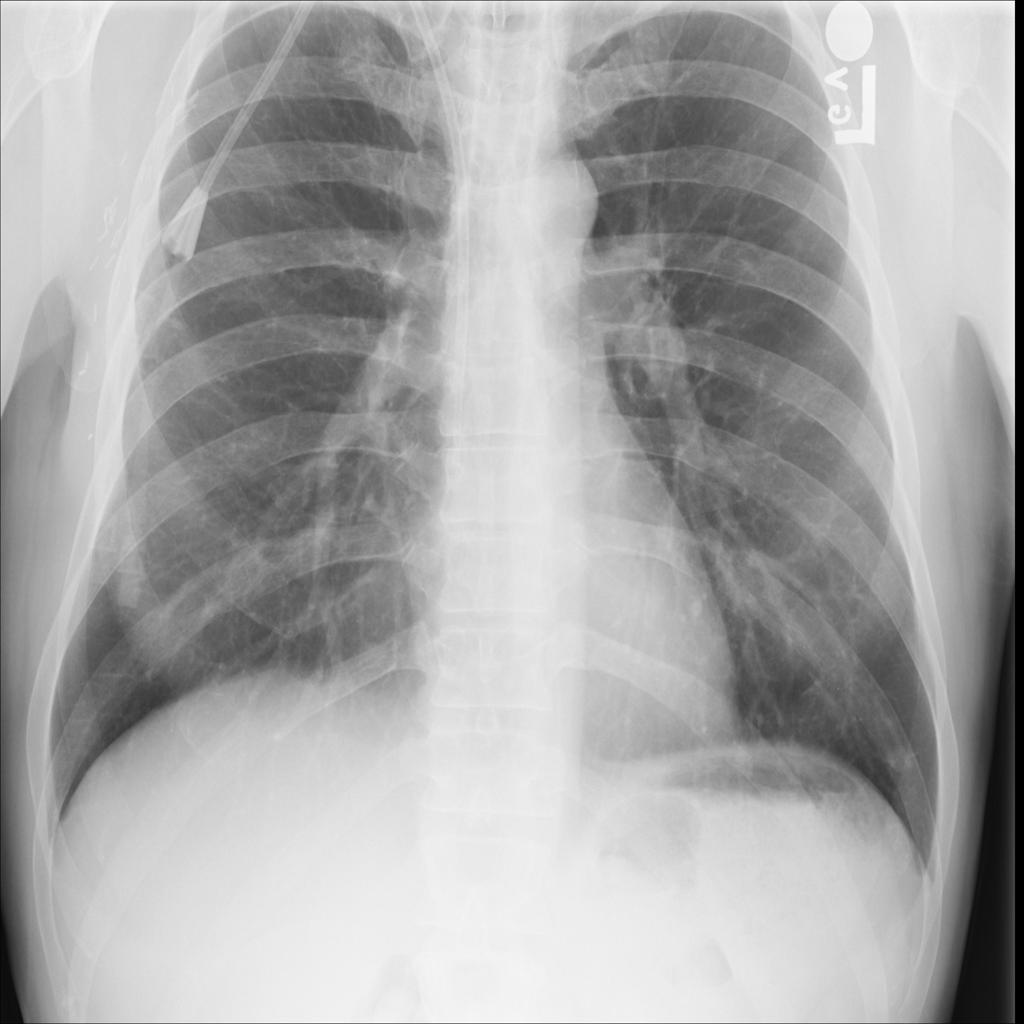nodule: (870, 721, 936, 795)
